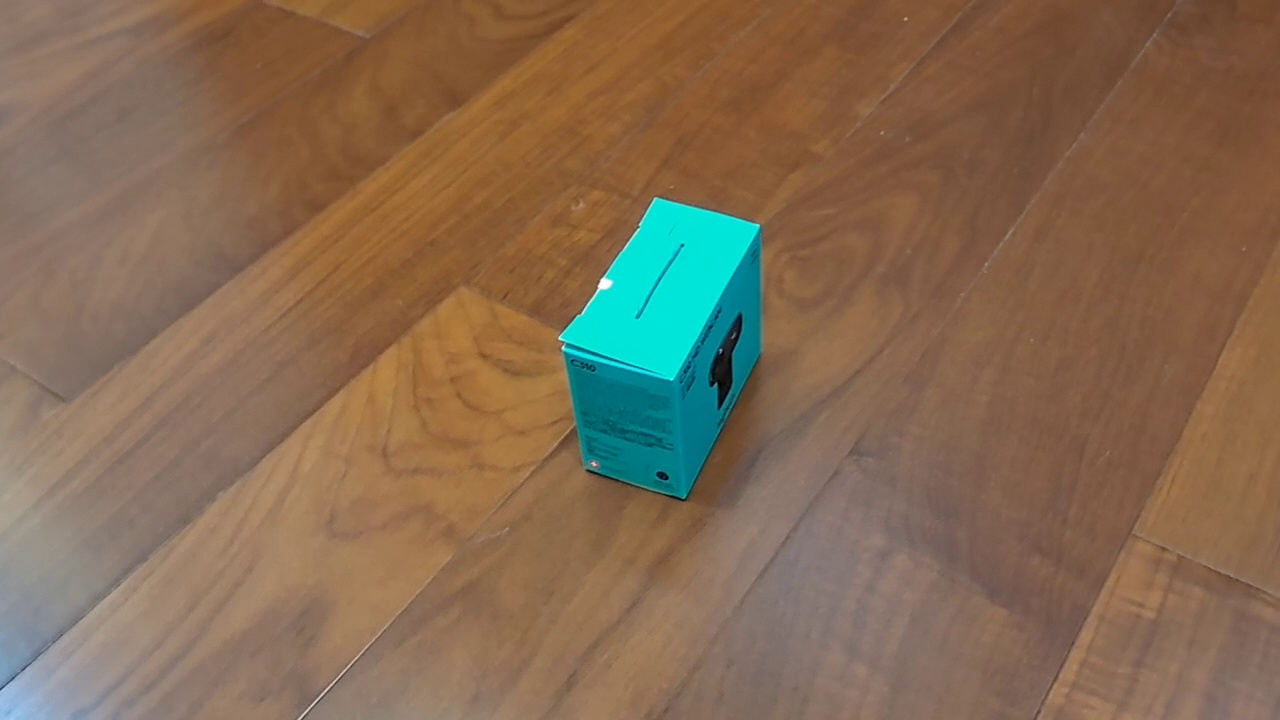webcam: (557, 196, 763, 501)
